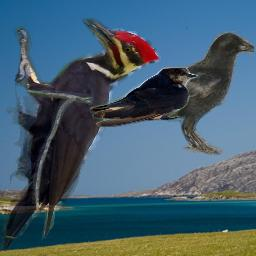Crow: (96, 31, 254, 155)
Swallow: (90, 67, 198, 127)
Woodpecker: (0, 18, 161, 252)
